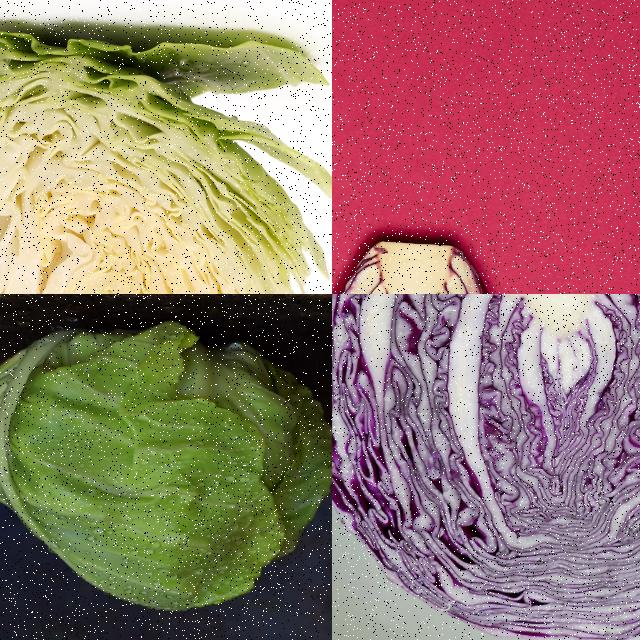cabbage: (332, 294, 639, 639), (0, 319, 331, 616), (0, 28, 331, 293), (332, 233, 504, 293)
